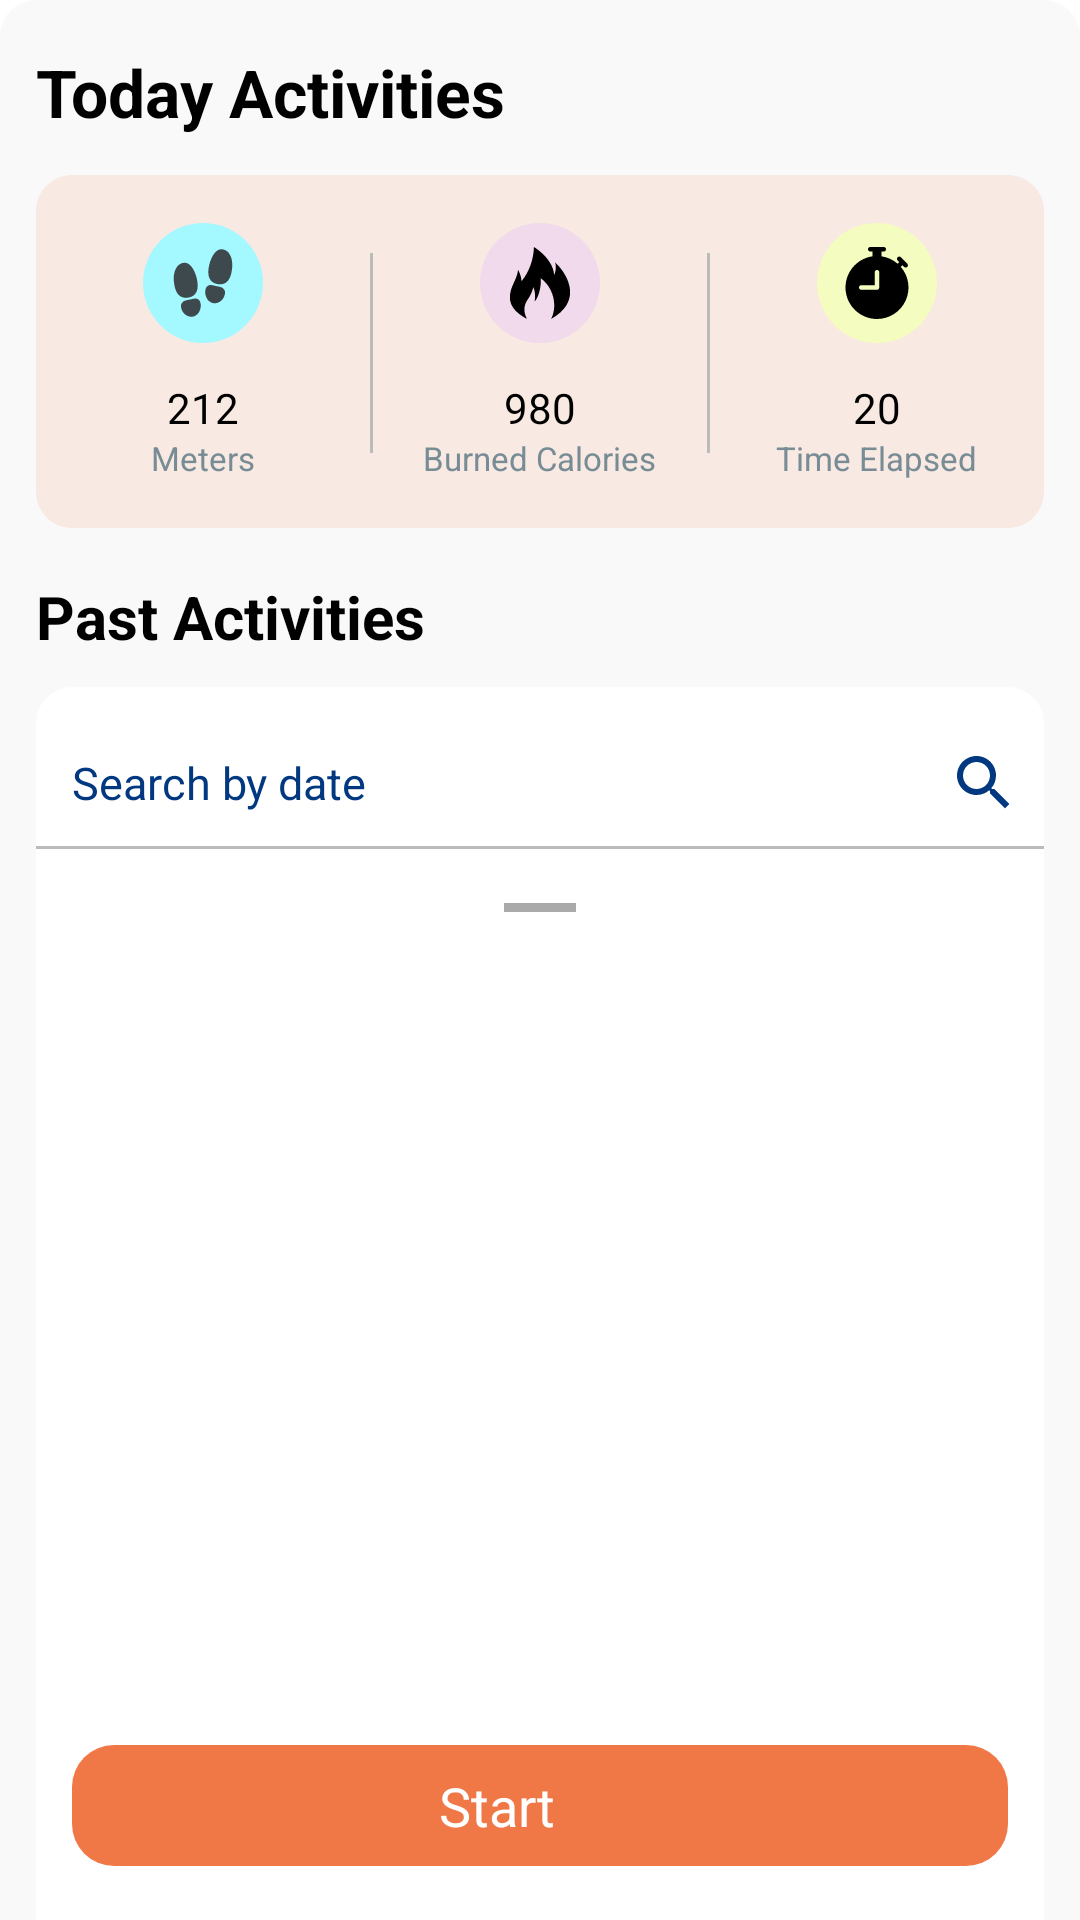

Point at icon controls on the screen. Image size 1080*1920, points as [x,y].
fire: [540,283]
footsteps: [203,283]
stopwatch: [877,283]
